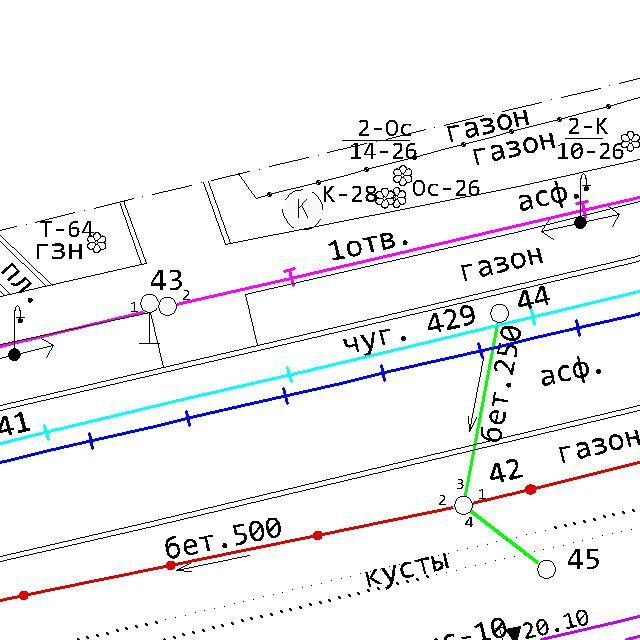asphalt: (518, 179, 580, 213), (540, 356, 602, 388)
bushes: (281, 187, 324, 232), (391, 164, 414, 187), (374, 186, 396, 210), (86, 230, 107, 255), (619, 129, 640, 153), (391, 186, 408, 209)
sing: (137, 292, 162, 346)
well: (534, 556, 559, 582), (451, 493, 476, 517), (488, 301, 511, 325), (158, 294, 178, 318)
